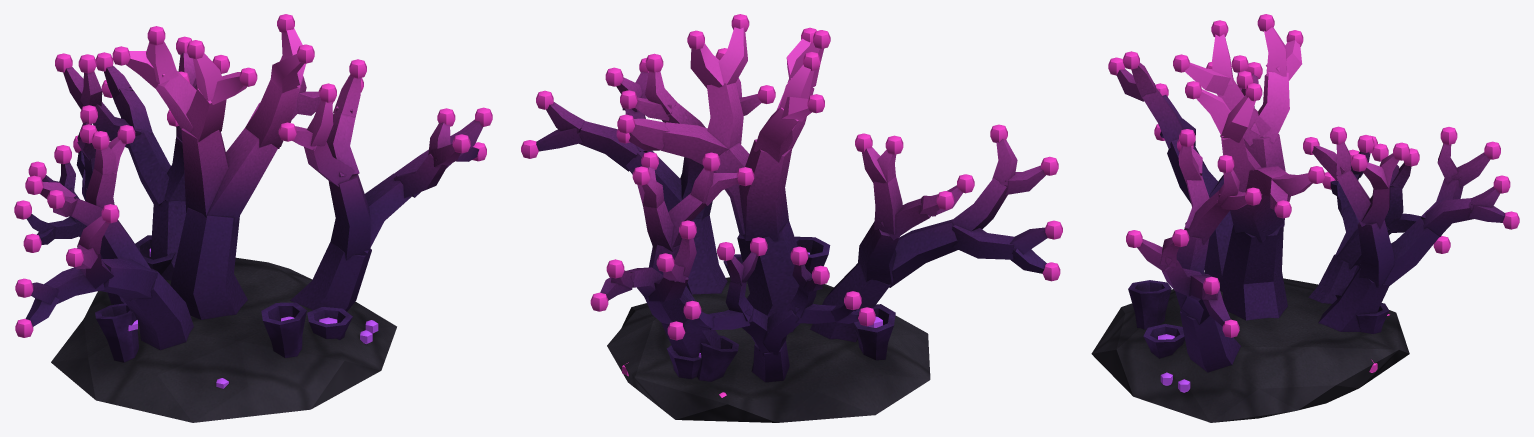
The model's file is coral_alienigena.fbx.
The picture shows the model from 3 angles, left to right: view 1: azimuth 30°, elevation 25°; view 2: azimuth 150°, elevation 25°; view 3: azimuth 270°, elevation 25°; orthographic projection. The views are drawn at different scales.
Parts seen in each view (by area): view 1: coral_alienigena, coral_alienigena_neon_magenta, coral_alienigena_neon; view 2: coral_alienigena, coral_alienigena_neon_magenta; view 3: coral_alienigena, coral_alienigena_neon_magenta.
Part boxes in pixels (x1,y1,x2,y2): coral_alienigena: (25,28,482,422); coral_alienigena_neon_magenta: (14,14,492,337); coral_alienigena_neon: (127,248,378,388); coral_alienigena: (536,27,1047,422); coral_alienigena_neon_magenta: (521,14,1062,397); coral_alienigena: (1091,27,1504,422); coral_alienigena_neon_magenta: (1108,14,1519,372).
Bounding box in the file's own units: 14.84 × 9.39 × 11.47.
2 materials, 2 textured.
